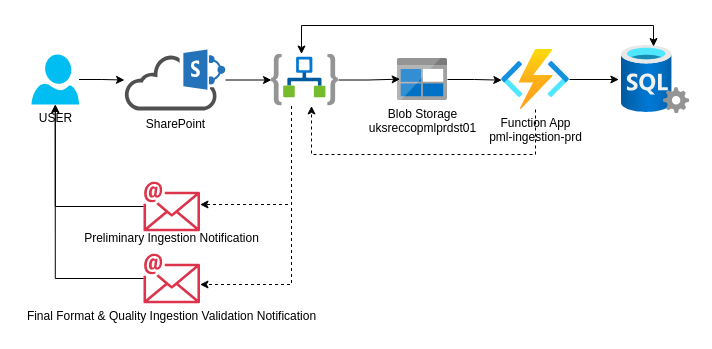
This 712x349 diagram has some shape labels left out. Each missing label, with the centre of its shape:
Logic App prd-levelisation-ingest: the point at 304,80
SQL Database recco-pml-prd: the point at 655,79
